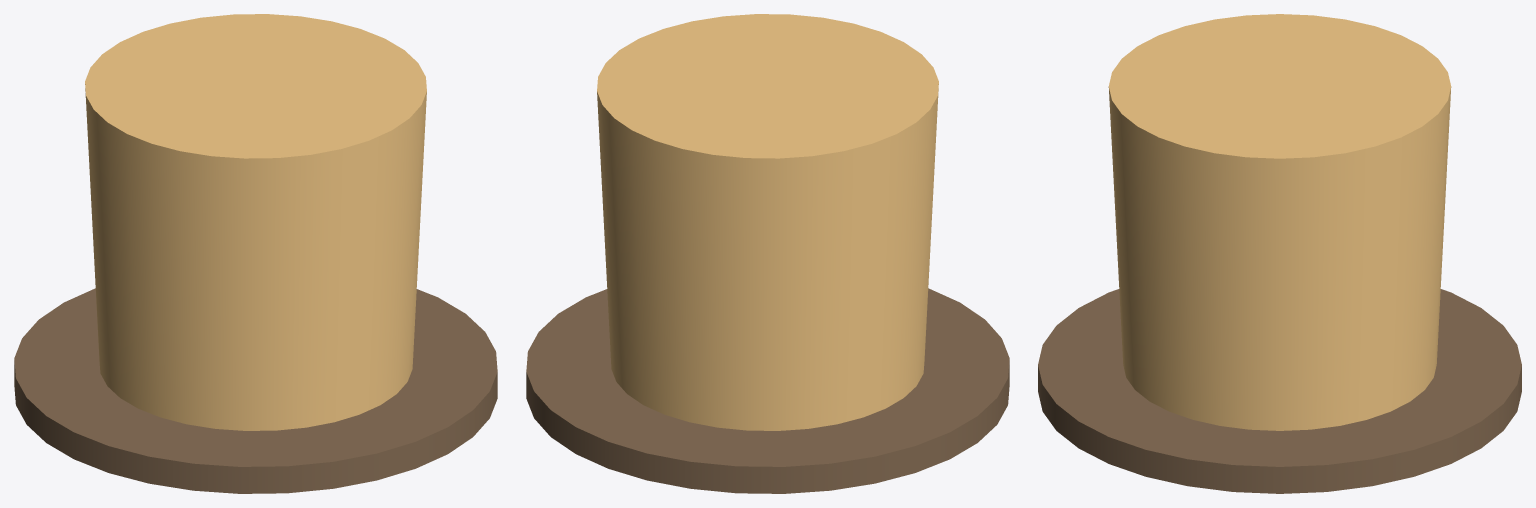
Rendered from old_fashioned.glb.
3 renders of one model, left to right at view 1: azimuth 30°, elevation 25°; view 2: azimuth 150°, elevation 25°; view 3: azimuth 270°, elevation 25°, orthographic.
Parts seen in each view (by area): view 1: DishRoot; view 2: DishRoot; view 3: DishRoot.
Boxes of the visible parts, x1,y1,x2,y2 form: DishRoot: (14,14,497,493); DishRoot: (526,14,1009,493); DishRoot: (1038,14,1521,493).
Size of the model in its own units: 0.13 by 0.0905 by 0.13.
